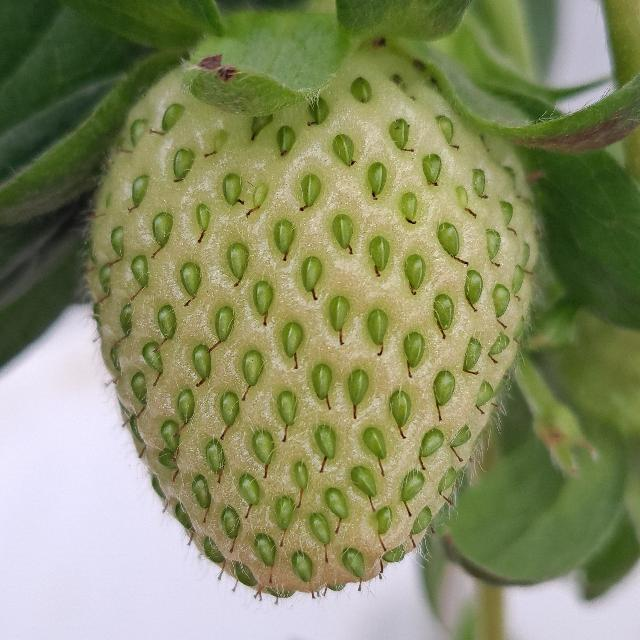Health_25: (86, 40, 538, 598)
